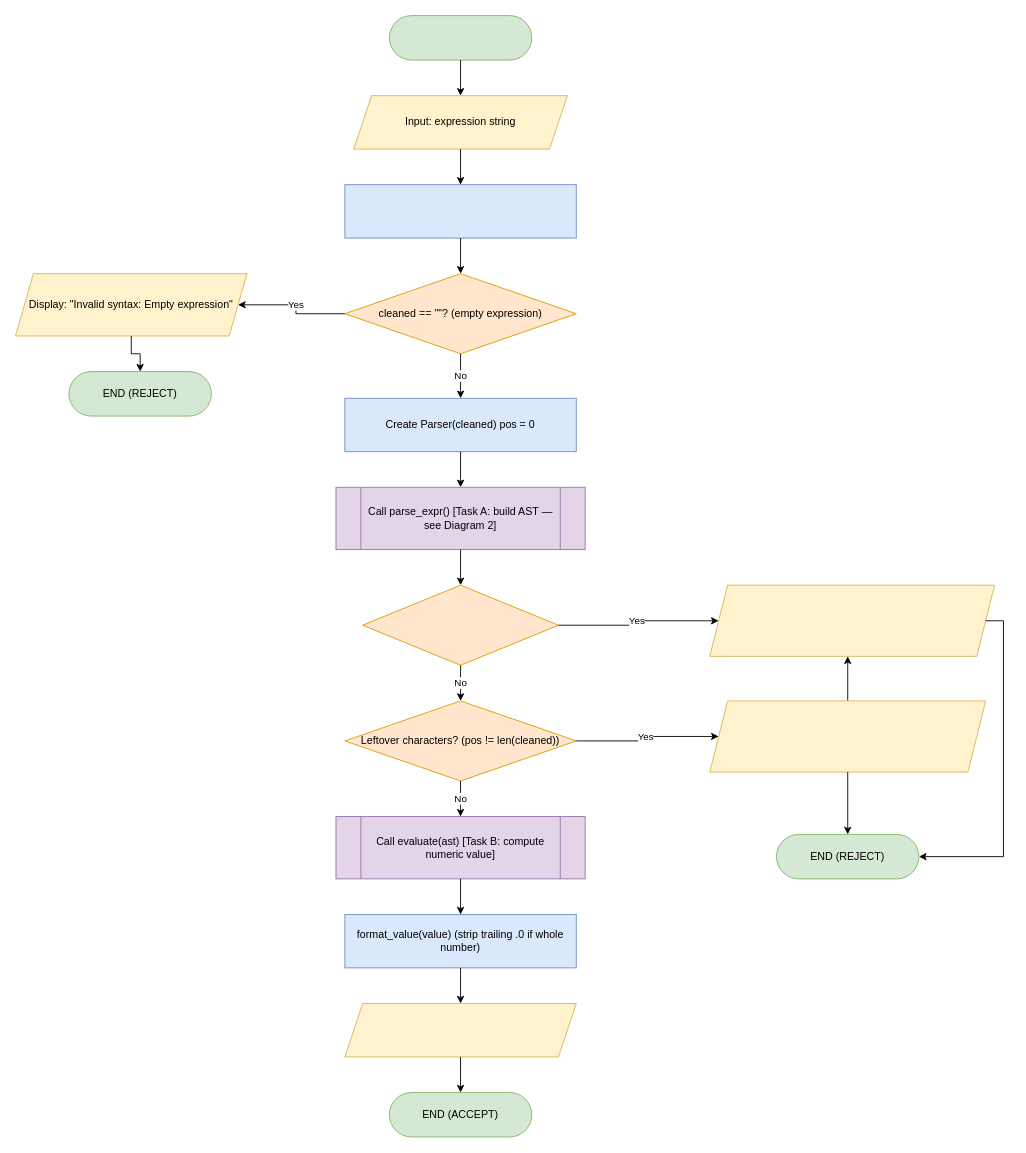
Image size: 1026x1153. Some labels were removed from this diagram. The shapes that lost their labels are listed below. From the top down, each one's centre as x and y in pixels, then its label:
(460,37): START
(460,211): cleaned = expression.replace(" ", "")
(460,624): ParseError raised?
(852,620): Display: "Invalid syntax: {message}" (includes token + position)
(847,736): Display: "Invalid syntax: Unexpected extra input after valid expression"
(460,1030): Display: "Valid syntax, Value = {result}"
